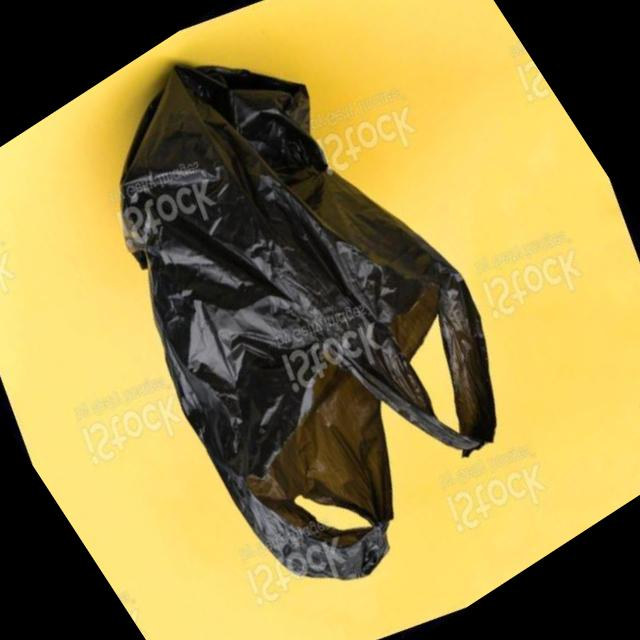KantongPlastik: (13, 0, 573, 618)
